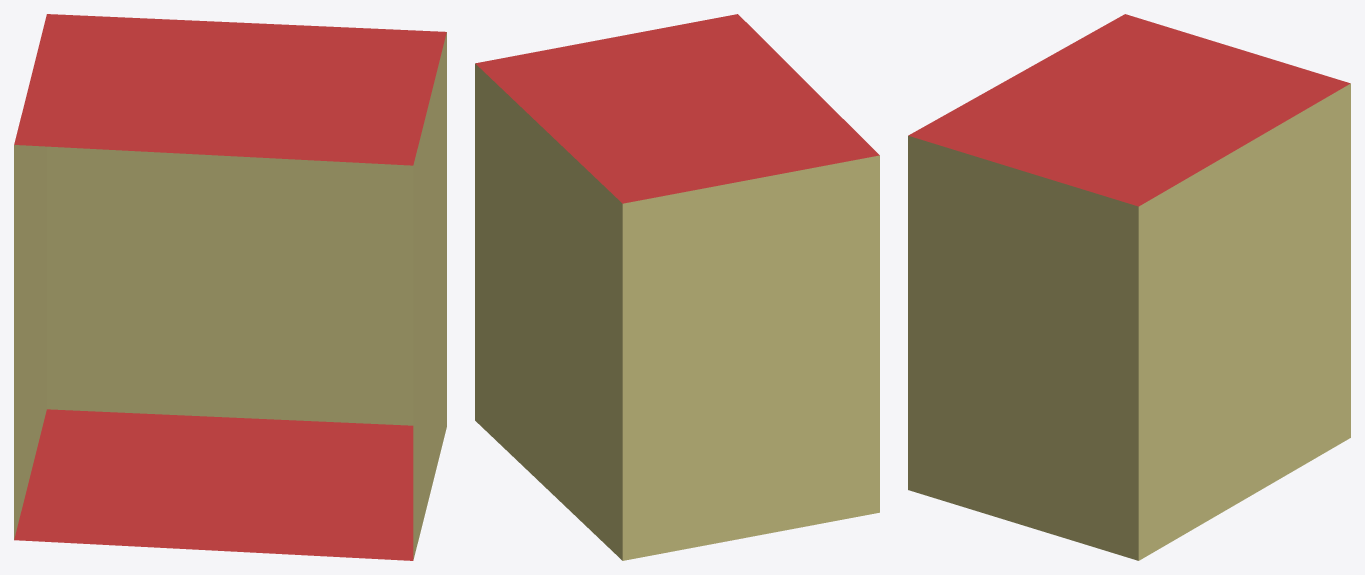
The picture shows the model from 3 angles, left to right: view 1: azimuth 30°, elevation 25°; view 2: azimuth 150°, elevation 25°; view 3: azimuth 270°, elevation 25°; orthographic projection. The views are drawn at different scales.
Visible parts, largest first — view 1: group_4, group_3, group_5; view 2: group_4, group_3; view 3: group_4, group_3.
Part boxes in pixels (x1,y1,x2,y2): group_4: [14, 32, 446, 559]; group_3: [14, 14, 446, 165]; group_5: [14, 409, 413, 560]; group_4: [475, 63, 879, 560]; group_3: [475, 14, 879, 203]; group_4: [908, 83, 1350, 560]; group_3: [908, 14, 1350, 206].
Bounding box in the file's own units: 7.18 × 6.98 × 6.16.
